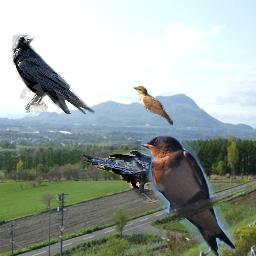Crow: (12, 35, 95, 114), (80, 150, 180, 203)
Cuckoo: (133, 86, 173, 125)
Swallow: (141, 135, 235, 256)
